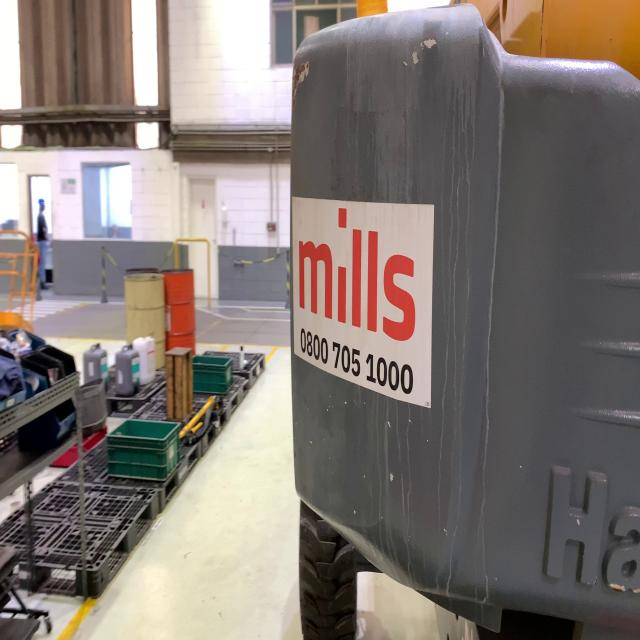Adesivos: (290, 190, 438, 413)
